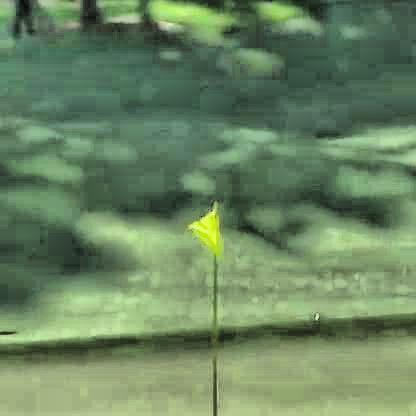golfball: (311, 308, 316, 318)
